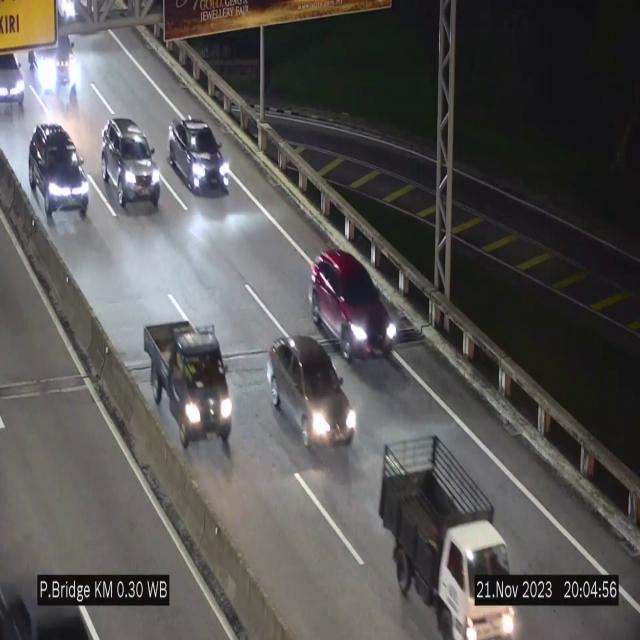Car: (269, 337, 355, 456), (310, 251, 396, 360), (29, 124, 88, 220), (101, 118, 160, 211), (168, 117, 229, 191)
Truck: (382, 434, 515, 640), (142, 314, 238, 457)
